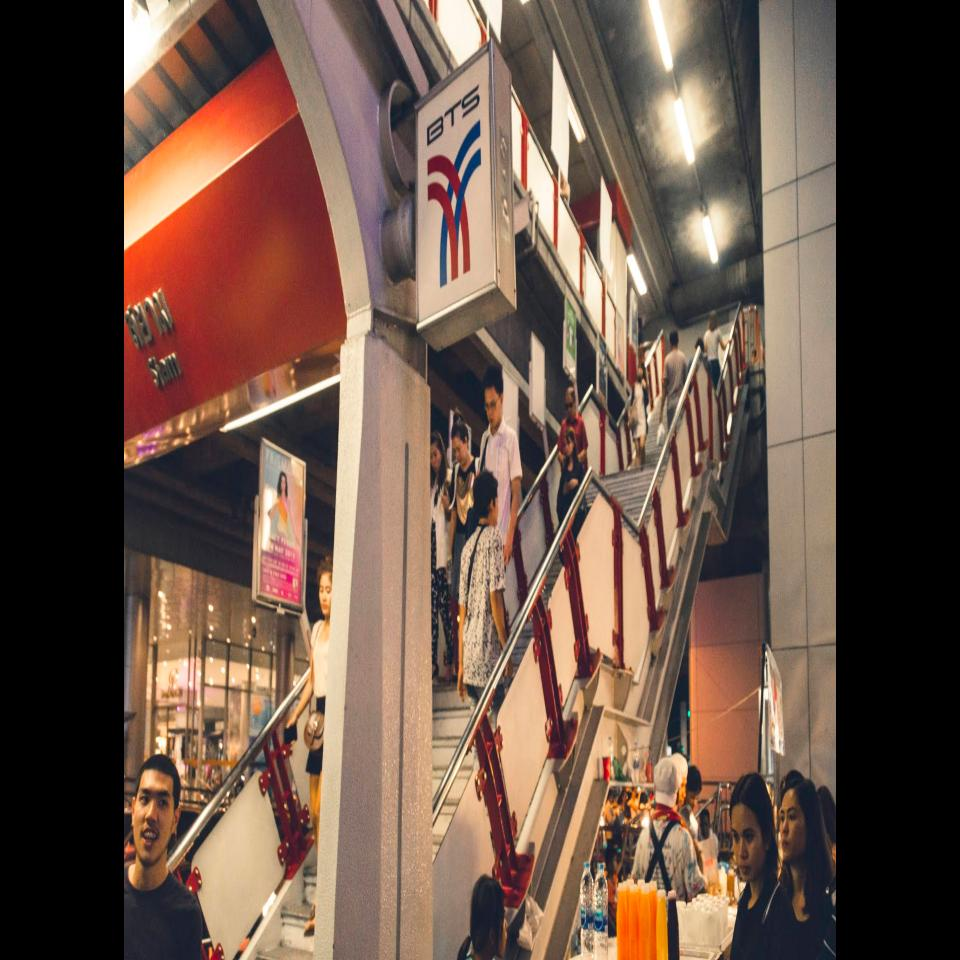signage: (124, 38, 497, 446), (124, 110, 347, 446)
